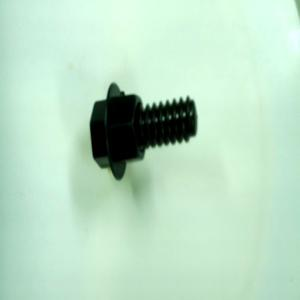parafuso: (89, 80, 198, 182), (89, 81, 199, 182)
